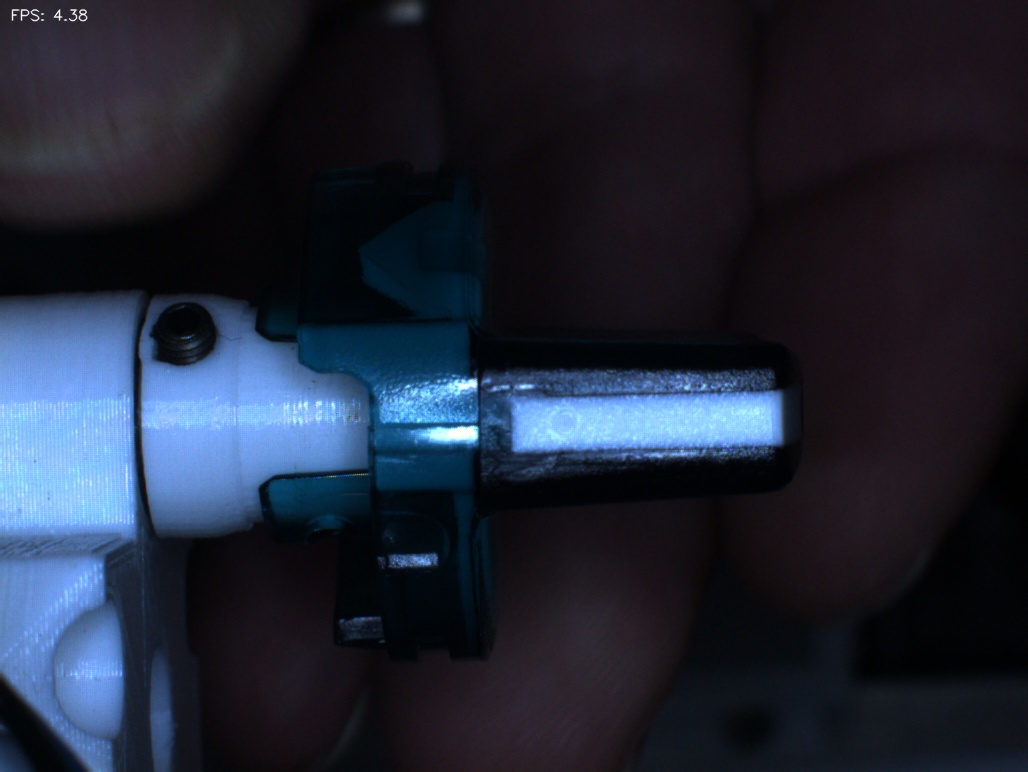DentOk: (331, 215, 403, 310)
